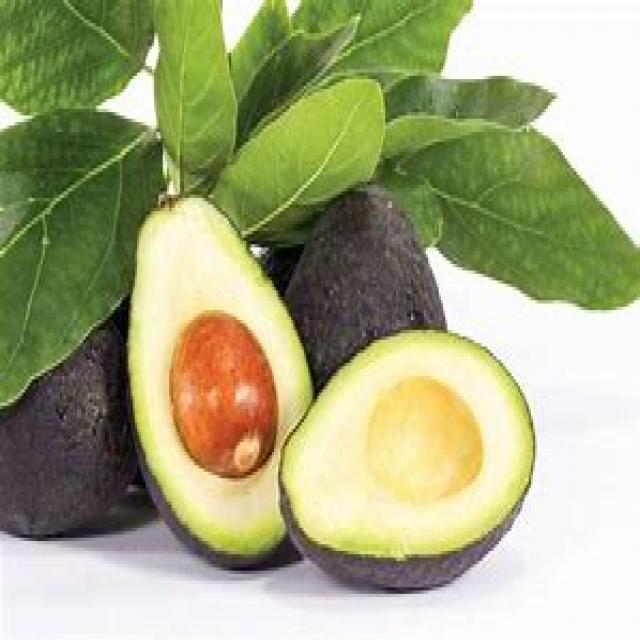Avocado: (108, 171, 306, 593), (271, 333, 550, 592), (0, 319, 120, 584), (298, 150, 460, 339)
